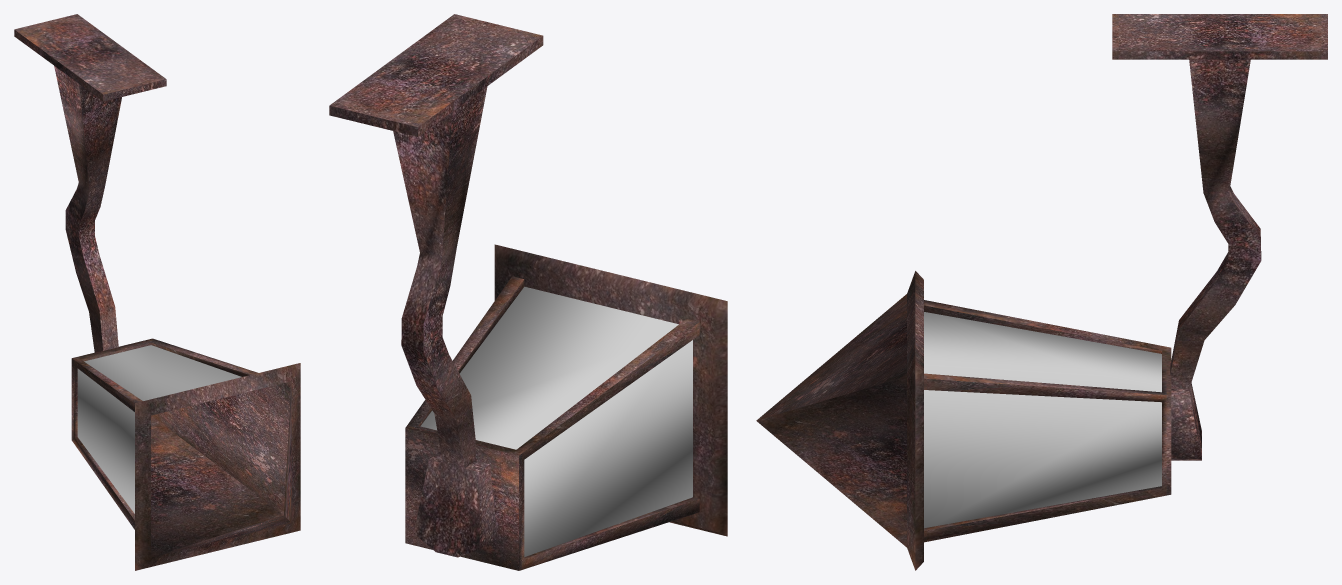
Rendered from lantern.fbx.
The picture shows the model from 3 angles, left to right: view 1: azimuth 30°, elevation 25°; view 2: azimuth 150°, elevation 25°; view 3: azimuth 270°, elevation 25°; orthographic projection. The views are drawn at different scales.
Parts seen in each view (by area): view 1: object; view 2: object; view 3: object.
Part boxes in pixels (left/top/right/bottom): object: left=14, top=14, right=300, bottom=570; object: left=329, top=14, right=727, bottom=570; object: left=756, top=14, right=1327, bottom=570.
Bounding box in the file's own units: 11.42 × 26.59 × 28.2.
